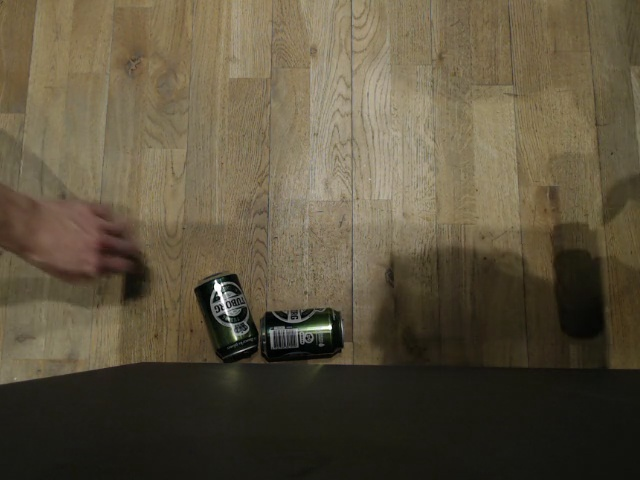beer: (190, 269, 258, 362), (258, 305, 344, 362)
